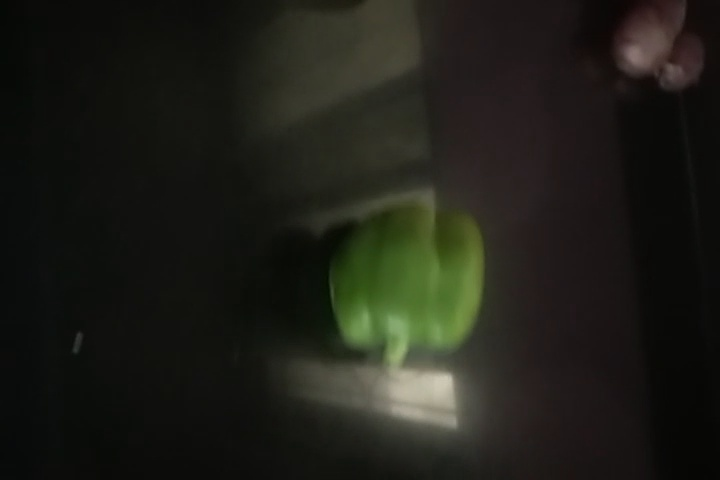capsicum: (325, 200, 494, 350)
onion: (617, 5, 698, 98)
